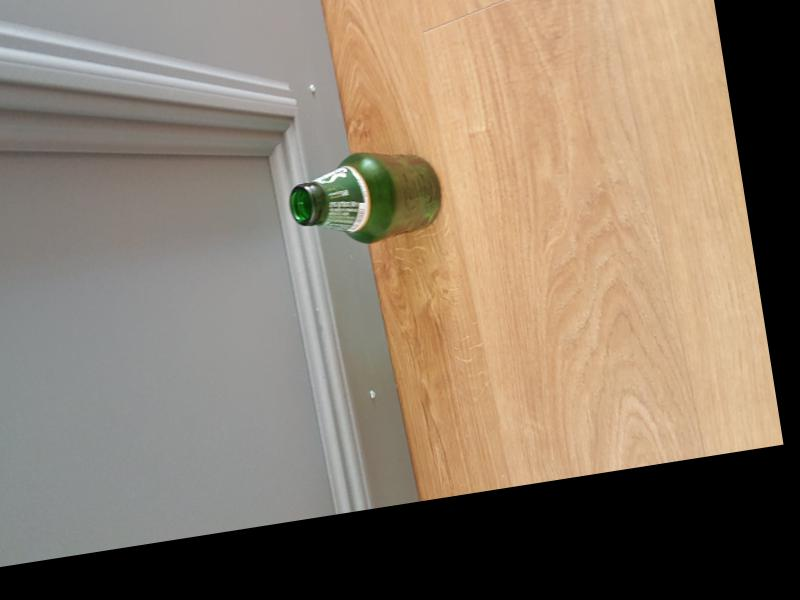Beer: (284, 141, 447, 255)
